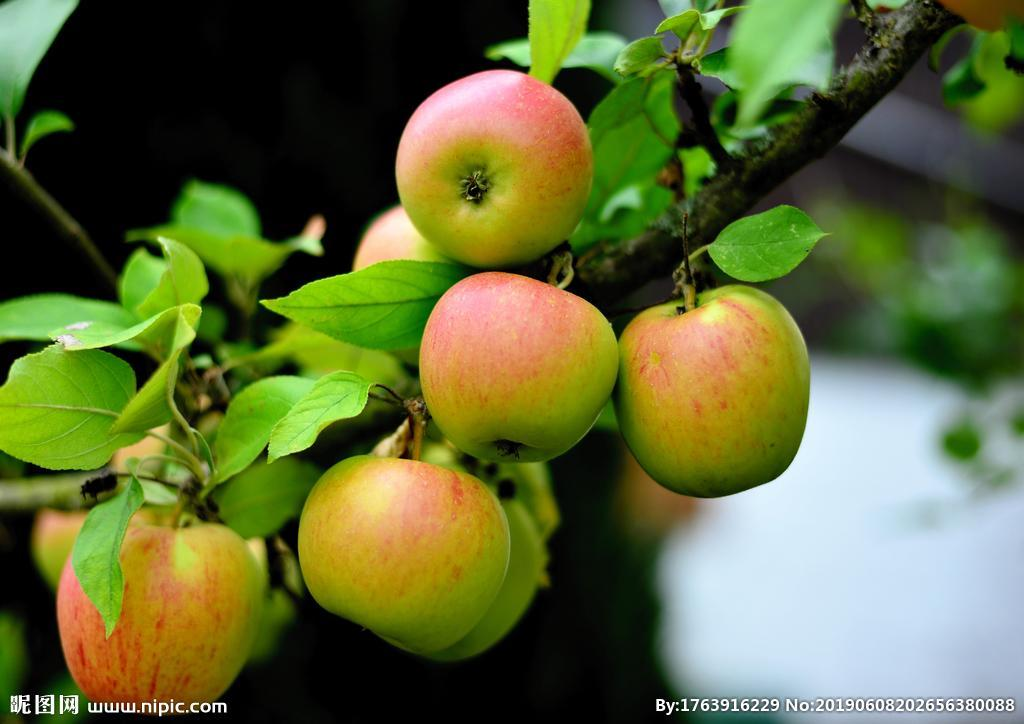apple: (611, 279, 812, 500), (295, 457, 517, 655), (392, 69, 595, 269), (418, 269, 619, 466), (55, 509, 260, 702)
